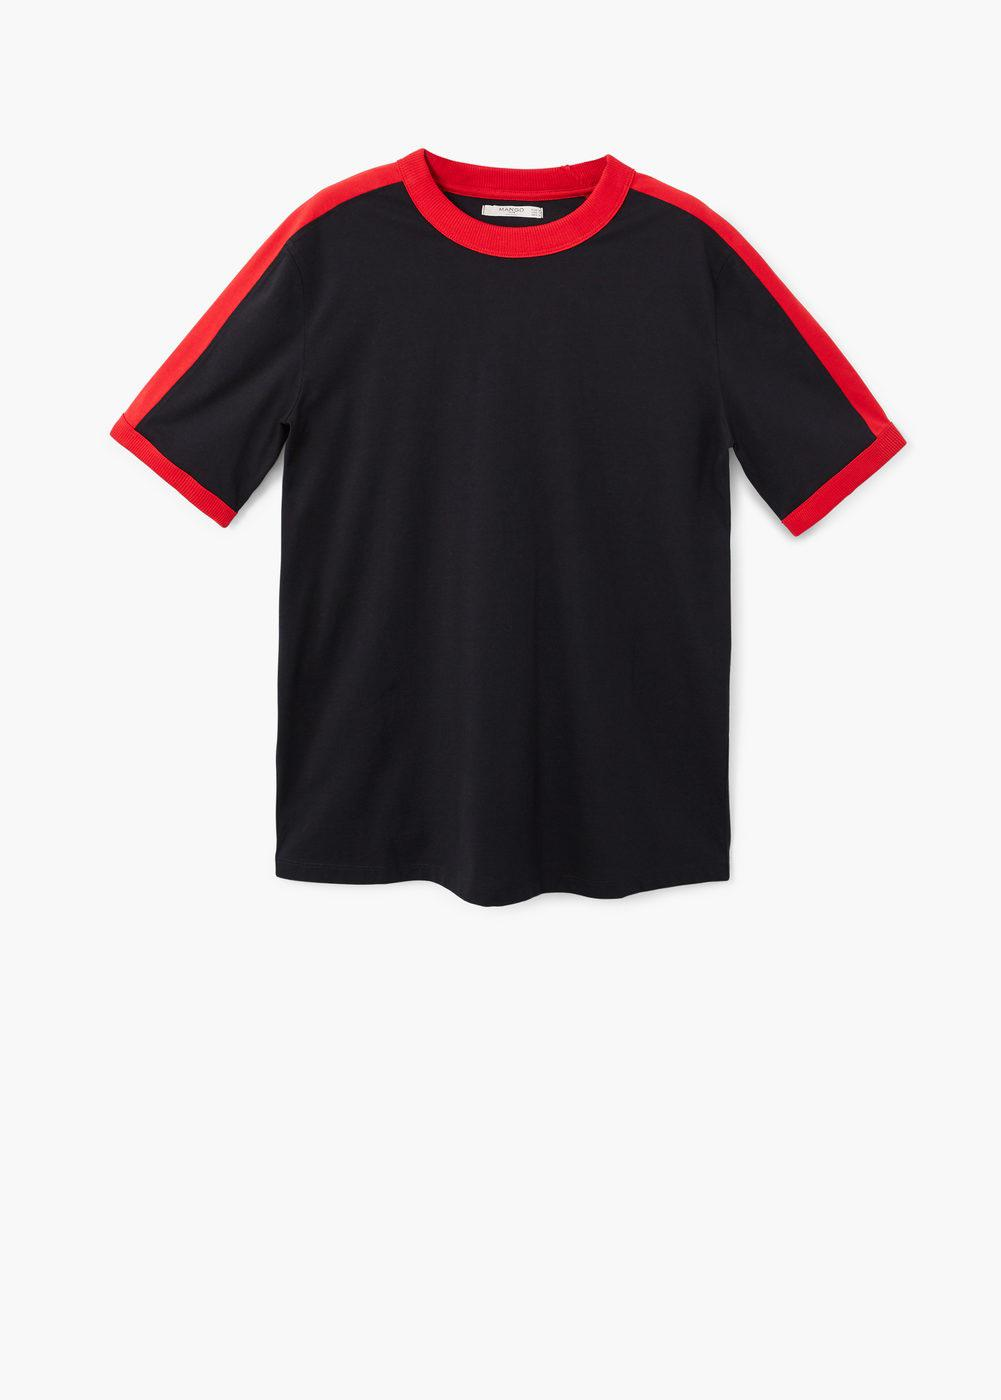teeshirt: (76, 142, 921, 1008)
